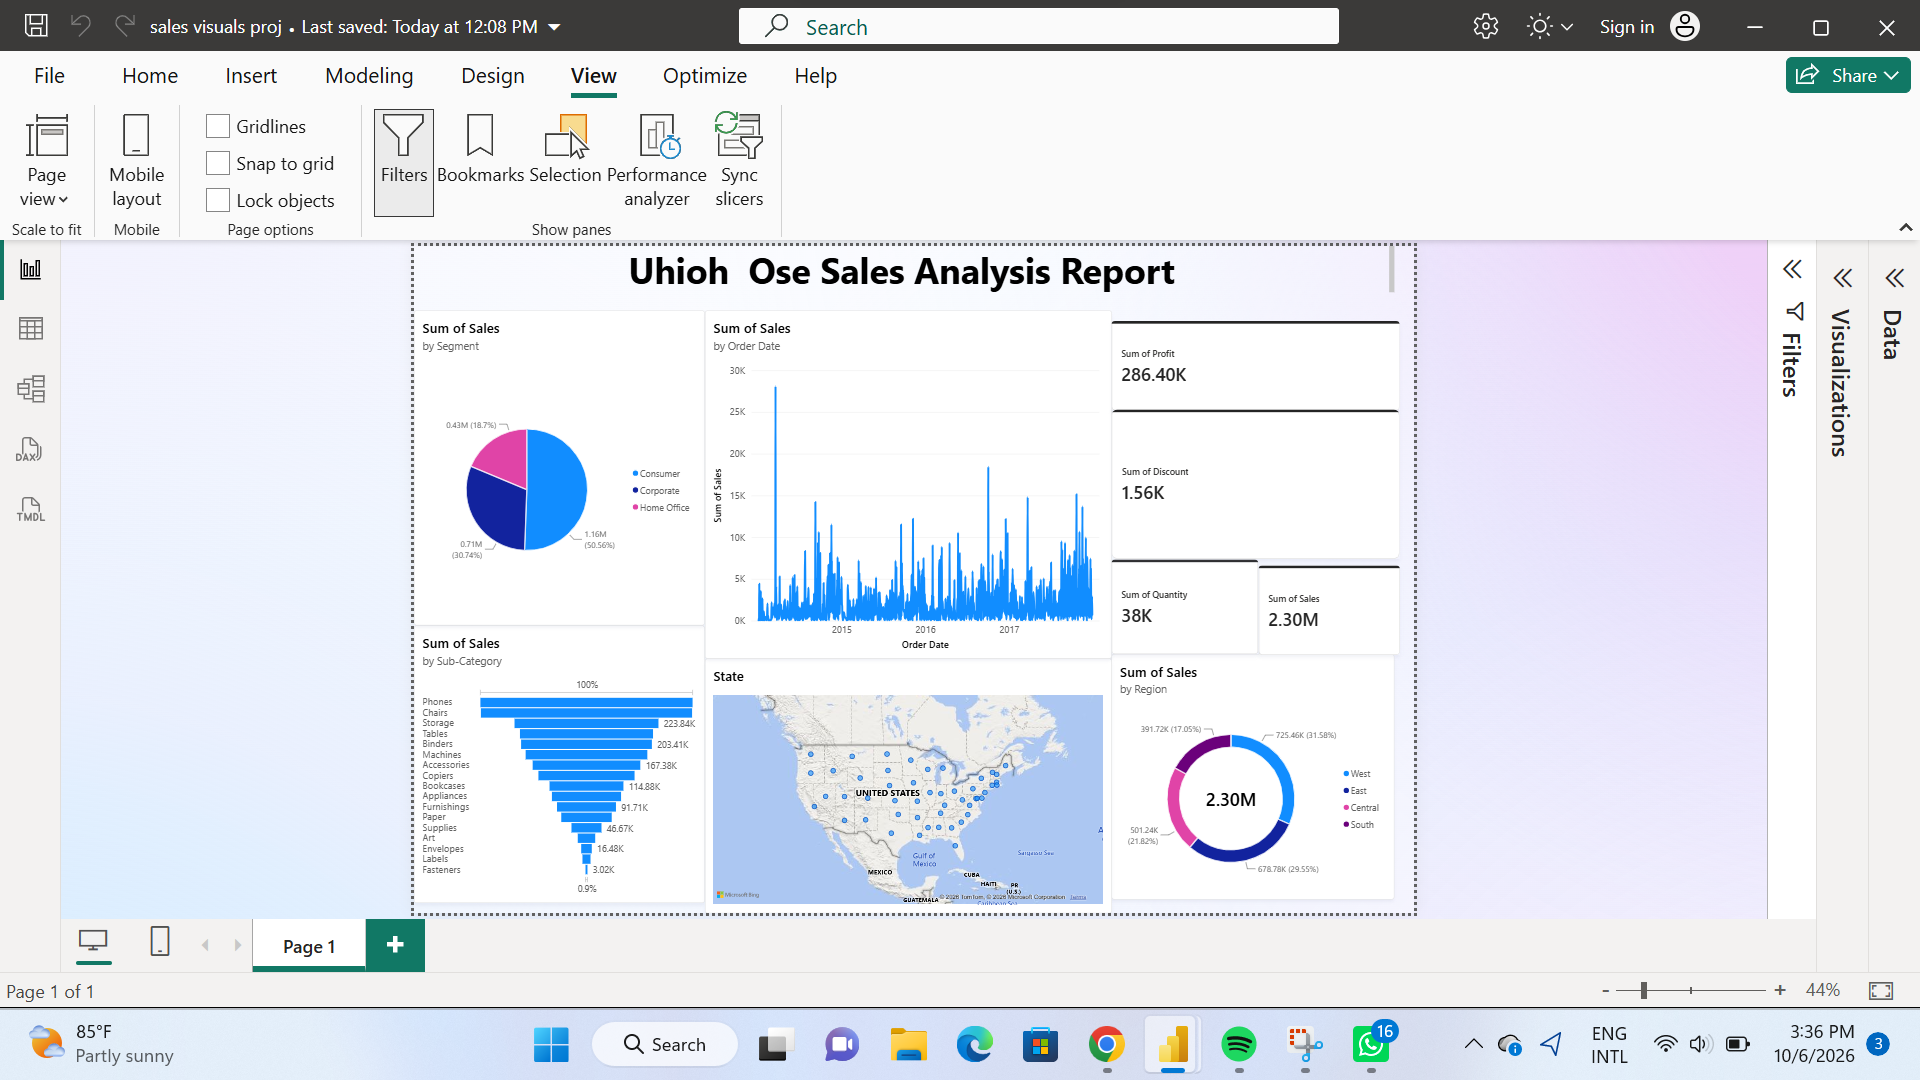

The dashboard page shown, as its layout file describes it:
{"tool":"powerbi","page":{"name":"Page 1","canvas":[1500,1000],"ordinal":0},"visuals":[{"type":"donutChart","fields":{"Category":["Sample_-_Superstore[1].Region"],"Y":["Sum(Sample_-_Superstore[1].Sales)"]},"box":[1046,612,424,368],"z":0},{"type":"funnel","fields":{"Category":["Sample_-_Superstore[1].Sub-Category"],"Y":["Sum(Sample_-_Superstore[1].Sales)"]},"box":[0,568,436,416],"z":1000},{"type":"map","fields":{"Category":["Sample_-_Superstore[1].State"]},"box":[436,618,610,382],"z":2000},{"type":"pieChart","fields":{"Category":["Sample_-_Superstore[1].Segment"],"Y":["Sum(Sample_-_Superstore[1].Sales)"]},"box":[0,96,436,472],"z":3000},{"type":"lineChart","fields":{"Category":["Sample_-_Superstore[1].Order Date"],"Y":["Sum(Sample_-_Superstore[1].Sales)"]},"box":[436,96,610,522],"z":4000},{"type":"cardVisual","fields":{"Data":["Sum(Sample_-_Superstore[1].Sales)"]},"box":[1266,480,212,134],"z":5000},{"type":"cardVisual","fields":{"Data":["Sum(Sample_-_Superstore[1].Profit)"]},"box":[1046,112,432,134],"z":6000},{"type":"cardVisual","fields":{"Data":["Sum(Sample_-_Superstore[1].Quantity)"]},"box":[1046,470,220,142],"z":6001},{"type":"cardVisual","fields":{"Data":["Sum(Sample_-_Superstore[1].Discount)"]},"box":[1046,246,432,224],"z":6002},{"type":"textbox","box":[0,0,1470,70],"z":6003}]}

Visuals, with their boxes on the page's 1500x1000 design canvas (x1, y1, x2, y2). These are canvas units, not pixel positions in the 1920x1080 screenshot, which may show the page scaled, cropped or inside an application window:
donutChart - Sample_-_Superstore[1].Region x Sum(Sample_-_Superstore[1].Sales): {"left": 1046, "top": 612, "right": 1470, "bottom": 980}
funnel - Sample_-_Superstore[1].Sub-Category x Sum(Sample_-_Superstore[1].Sales): {"left": 0, "top": 568, "right": 436, "bottom": 984}
map - Sample_-_Superstore[1].State: {"left": 436, "top": 618, "right": 1046, "bottom": 1000}
pieChart - Sample_-_Superstore[1].Segment x Sum(Sample_-_Superstore[1].Sales): {"left": 0, "top": 96, "right": 436, "bottom": 568}
lineChart - Sample_-_Superstore[1].Order Date x Sum(Sample_-_Superstore[1].Sales): {"left": 436, "top": 96, "right": 1046, "bottom": 618}
cardVisual - Sum(Sample_-_Superstore[1].Sales): {"left": 1266, "top": 480, "right": 1478, "bottom": 614}
cardVisual - Sum(Sample_-_Superstore[1].Profit): {"left": 1046, "top": 112, "right": 1478, "bottom": 246}
cardVisual - Sum(Sample_-_Superstore[1].Quantity): {"left": 1046, "top": 470, "right": 1266, "bottom": 612}
cardVisual - Sum(Sample_-_Superstore[1].Discount): {"left": 1046, "top": 246, "right": 1478, "bottom": 470}
textbox: {"left": 0, "top": 0, "right": 1470, "bottom": 70}
